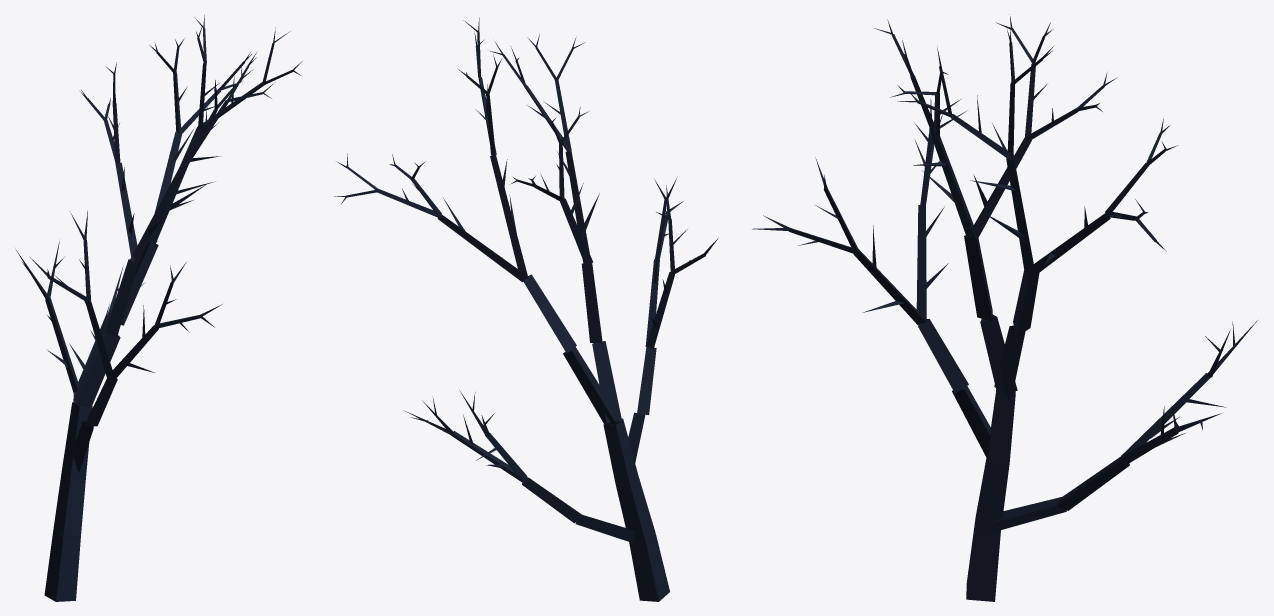
The model's file is tree_bare_d.glb.
3 views of the same model, side by side, from view 1: azimuth 30°, elevation 25°; view 2: azimuth 150°, elevation 25°; view 3: azimuth 270°, elevation 25° (orthographic). The views are drawn at different scales.
Parts seen in each view (by area): view 1: Tree_Bare_D; view 2: Tree_Bare_D; view 3: Tree_Bare_D.
Part boxes in pixels (left/top/right/bottom): Tree_Bare_D: left=15, top=15, right=302, bottom=601; Tree_Bare_D: left=334, top=17, right=718, bottom=601; Tree_Bare_D: left=752, top=14, right=1257, bottom=601.
Size of the model in its own units: 5.63 by 9.43 by 6.52.
